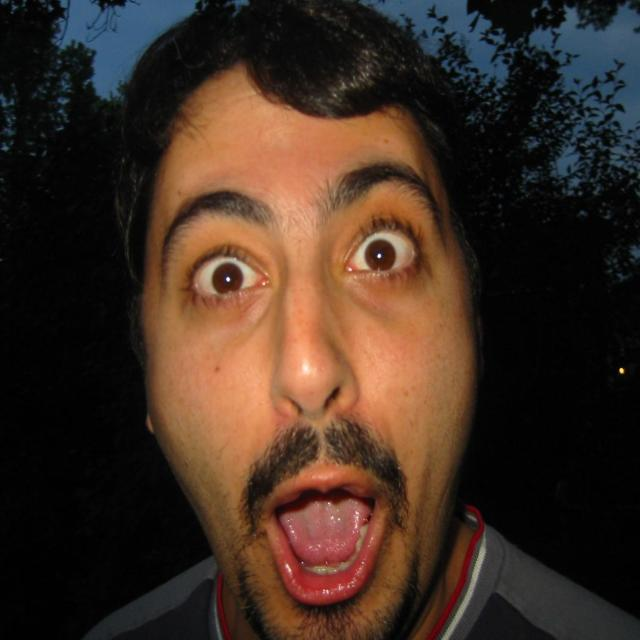no-glass: (171, 218, 426, 308)
